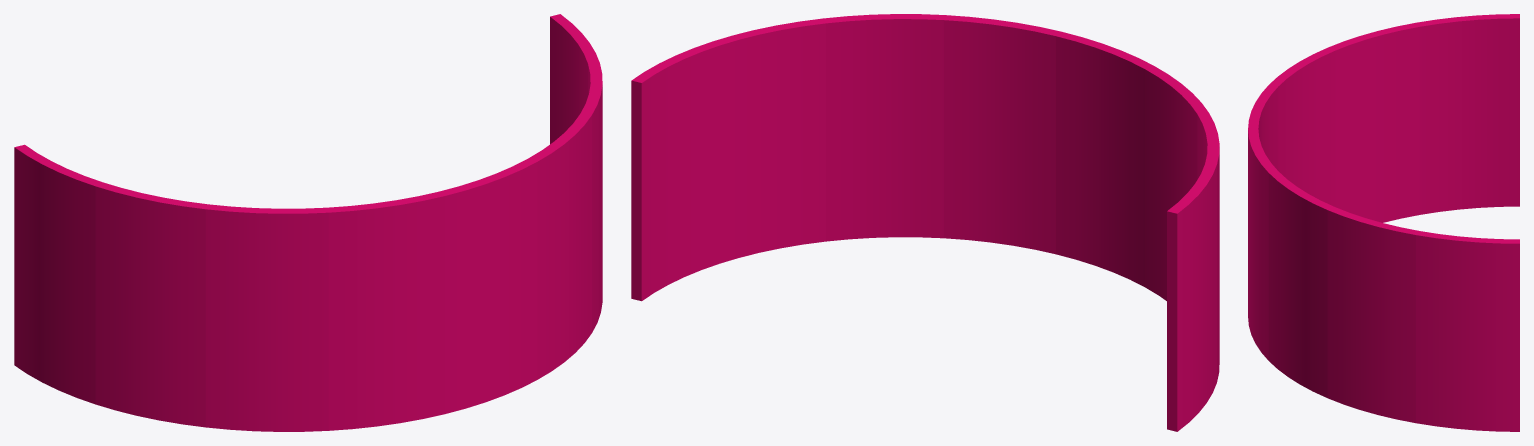
File: Tower_Wall_03.fbx
3 views of the same model, side by side, from view 1: azimuth 30°, elevation 25°; view 2: azimuth 150°, elevation 25°; view 3: azimuth 270°, elevation 25° (orthographic). The views are drawn at different scales.
Visible parts, largest first — view 1: Tower_Wall_03; view 2: Tower_Wall_03; view 3: Tower_Wall_03.
Boxes of the visible parts, bbox=[...] form: Tower_Wall_03: bbox=[14, 14, 602, 431]; Tower_Wall_03: bbox=[631, 14, 1219, 431]; Tower_Wall_03: bbox=[1248, 14, 1519, 431].
Size of the model in its own units: 1571 by 600 by 786.
